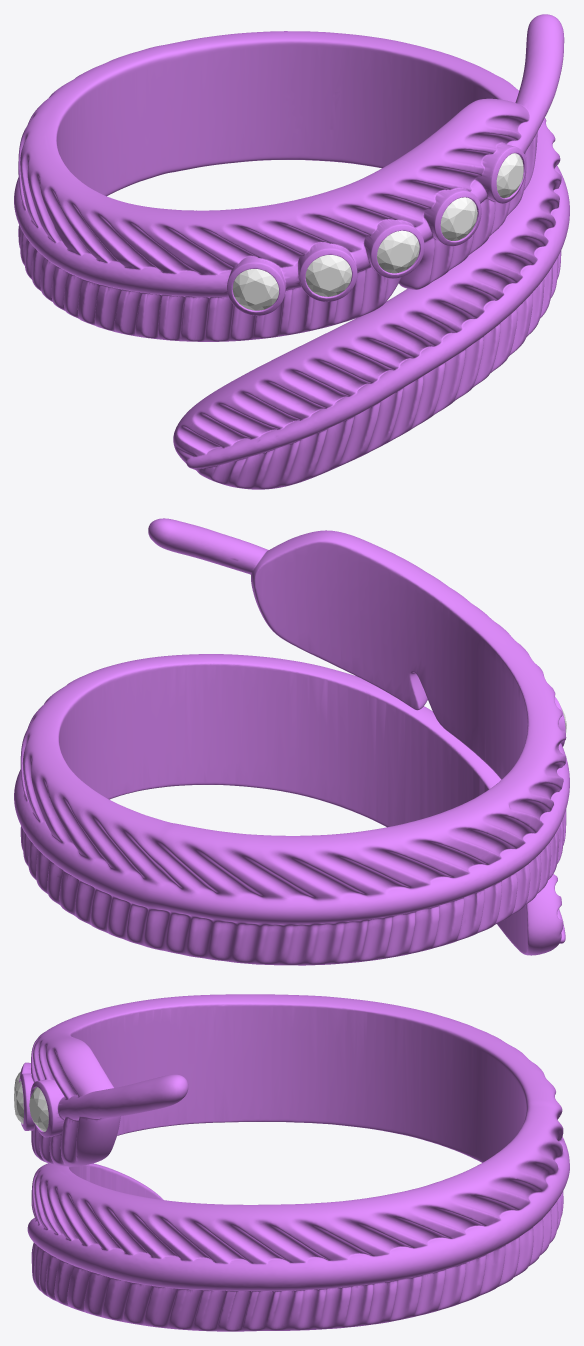
3 renders of one model, top to bottom at view 1: azimuth 30°, elevation 25°; view 2: azimuth 150°, elevation 25°; view 3: azimuth 270°, elevation 25°, orthographic. The views are drawn at different scales.
Parts seen in each view (by area): view 1: Group32632, 1.3dm; view 2: Group32632; view 3: Group32632, 1.3dm.
Part boxes in pixels (x1,y1,x2,y2): Group32632: [14, 14, 569, 489]; 1.3dm: [232, 153, 523, 310]; Group32632: [14, 518, 569, 965]; Group32632: [19, 994, 569, 1331]; 1.3dm: [14, 1071, 48, 1131].
Size of the model in its own units: 2.49 by 1.82 by 2.55.
